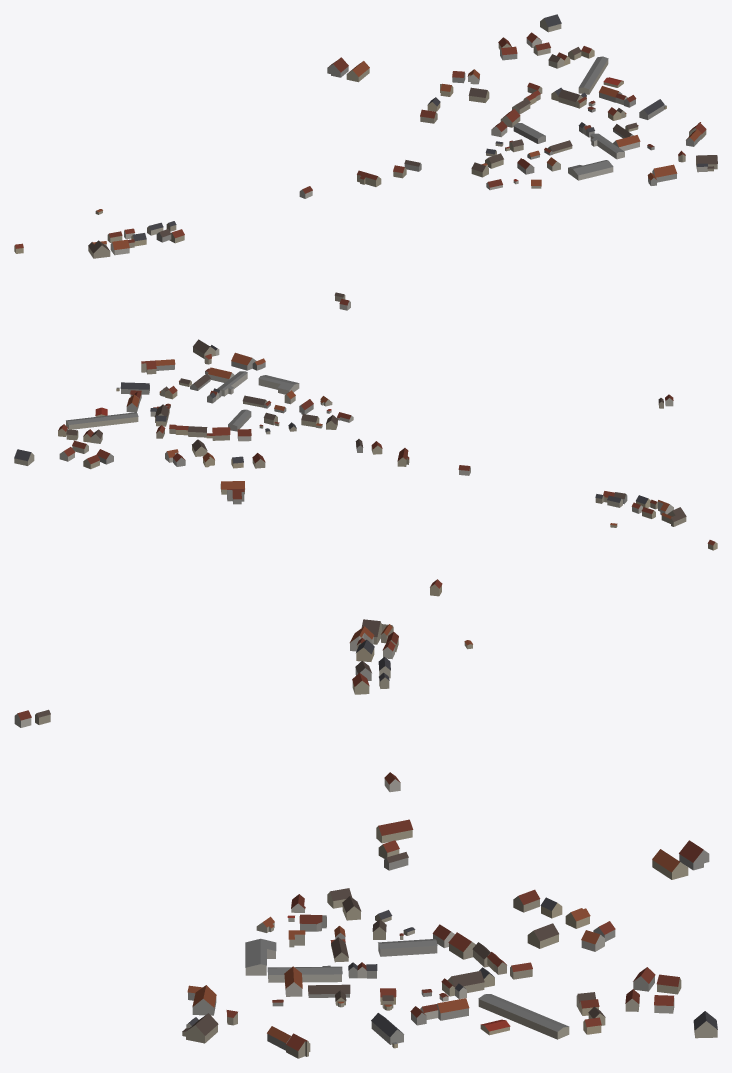
3 renders of one model, top to bottom at view 1: azimuth 30°, elevation 25°; view 2: azimuth 150°, elevation 25°; view 3: azimuth 270°, elevation 25°, orthographic. The views are drawn at different scales.
Visible parts, largest first — view 1: buildings; view 2: buildings; view 3: buildings.
Boxes of the visible parts, box(x1,y1,x2,y2) form: buildings: box(14, 14, 717, 310); buildings: box(14, 339, 717, 550); buildings: box(14, 579, 717, 1058).
Bounding box in the file's own units: 744 × 37.53 × 479.
